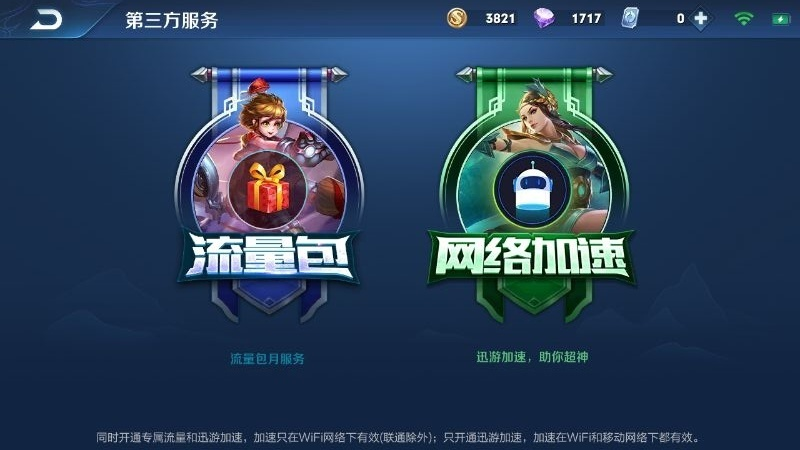obj_2496156032192: (170, 67, 363, 324)
return: (21, 4, 75, 33)
